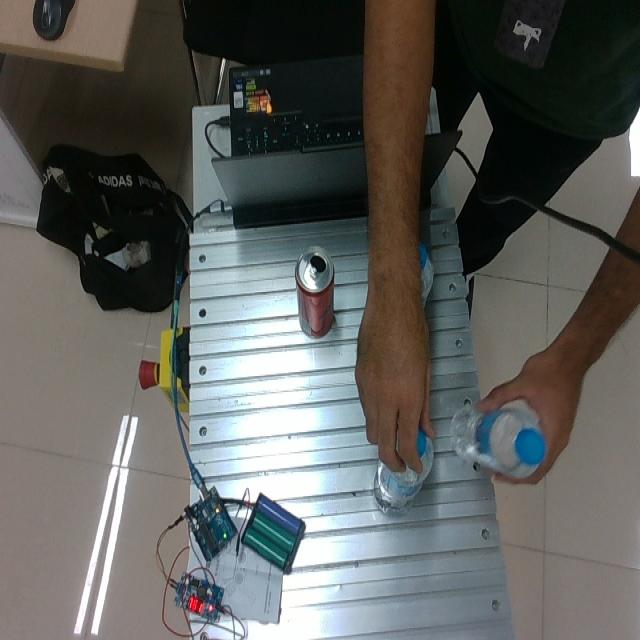coca: (294, 244, 334, 337)
lavie: (448, 397, 543, 479), (372, 431, 434, 513), (419, 242, 434, 306)
